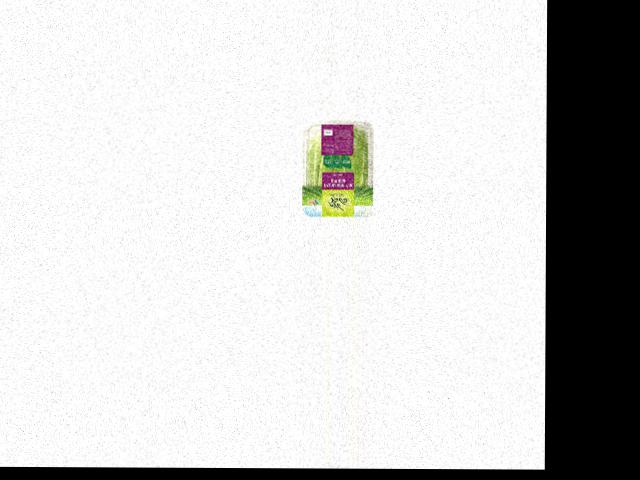lettuce: (300, 119, 373, 210)
